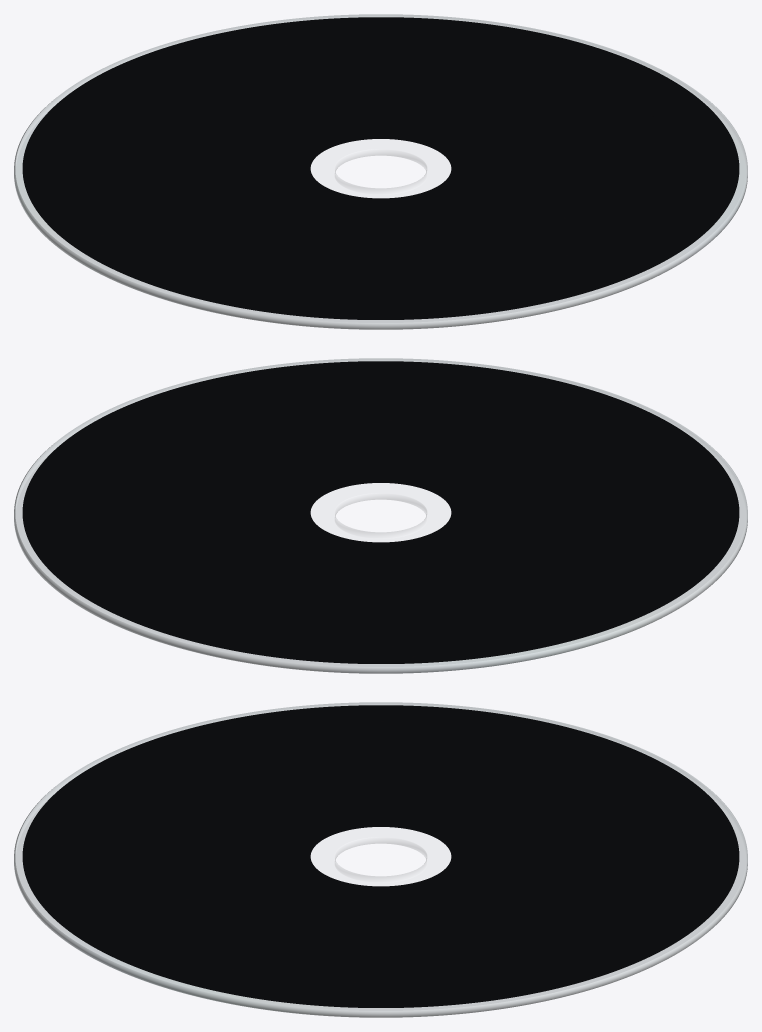
Rendered from 13_donda.glb.
3 renders of one model, top to bottom at view 1: azimuth 30°, elevation 25°; view 2: azimuth 150°, elevation 25°; view 3: azimuth 270°, elevation 25°, orthographic.
Visible parts, largest first — view 1: Donda · complete CD; view 2: Donda · complete CD; view 3: Donda · complete CD.
Part boxes in pixels (x1=…): Donda · complete CD: x1=14, y1=14, x2=747, y2=329; Donda · complete CD: x1=14, y1=358, x2=747, y2=673; Donda · complete CD: x1=14, y1=702, x2=747, y2=1017.
Size of the model in its own units: 0.12 by 0.00132 by 0.12.
Materials: 5 (2 with a texture image).
